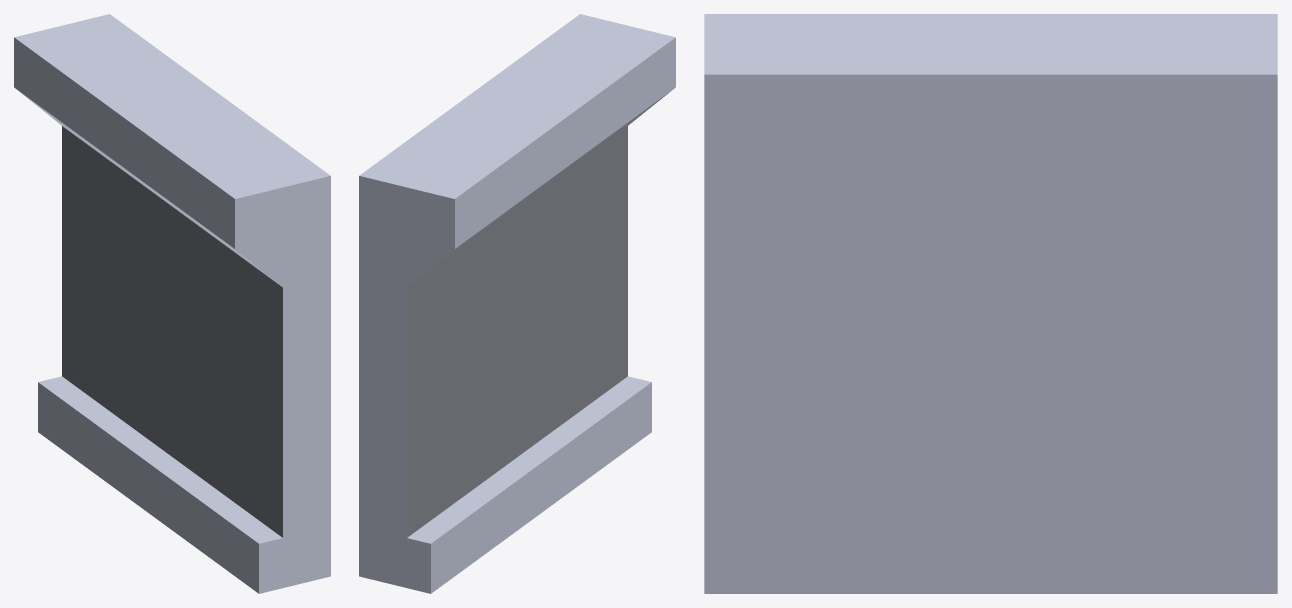
3 views of the same model, side by side, from view 1: azimuth 30°, elevation 25°; view 2: azimuth 150°, elevation 25°; view 3: azimuth 270°, elevation 25° (orthographic). The views are drawn at different scales.
Visible parts, largest first — view 1: object; view 2: object; view 3: object.
Part boxes in pixels (<box>): object: <box>14,14,330,593</box>; object: <box>359,14,675,593</box>; object: <box>704,14,1277,593</box>.
Size of the model in its own units: 0.25 by 1 by 1.
